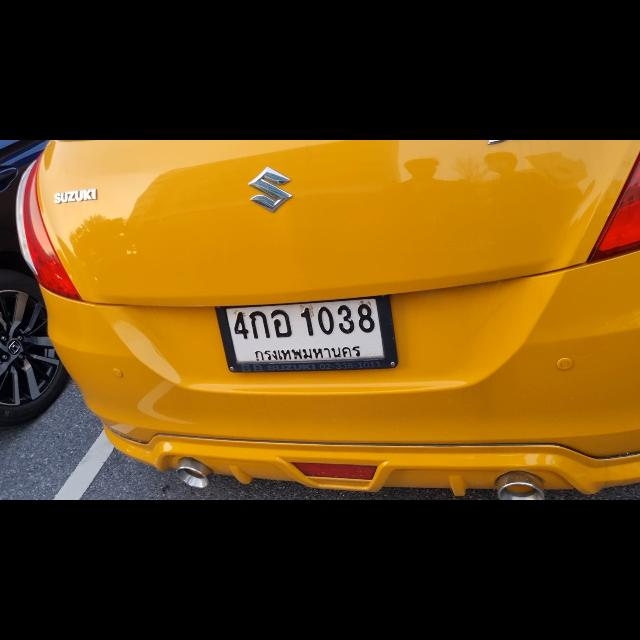licenseplate: (215, 293, 398, 375)
